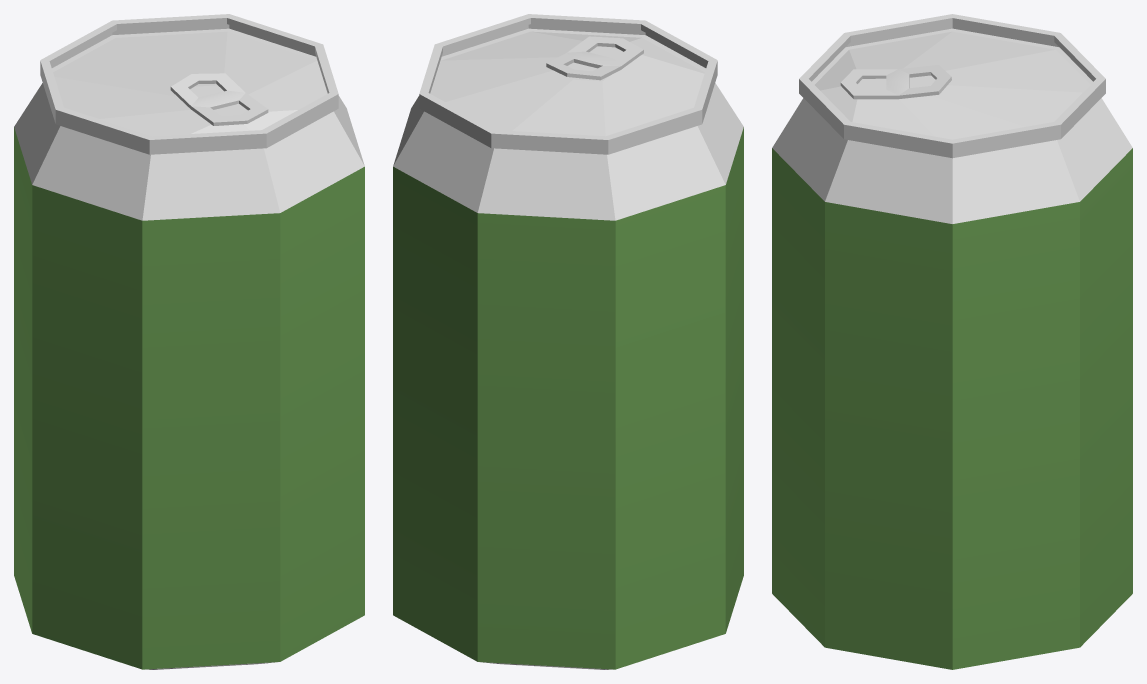
Rendered from GreenCan.fbx.
3 renders of one model, left to right at view 1: azimuth 30°, elevation 25°; view 2: azimuth 150°, elevation 25°; view 3: azimuth 270°, elevation 25°, orthographic.
Visible parts, largest first — view 1: Cola_Can1, Cola_Can; view 2: Cola_Can1, Cola_Can; view 3: Cola_Can1, Cola_Can.
Part boxes in pixels (box(x1,y1,x2,y2)): Cola_Can1: box(14, 14, 364, 669); Cola_Can: box(170, 73, 268, 125); Cola_Can1: box(393, 14, 743, 669); Cola_Can: box(546, 36, 643, 80); Cola_Can1: box(772, 14, 1132, 669); Cola_Can: box(840, 65, 951, 99).
Size of the model in its own units: 1.02 by 1.67 by 1.02.
